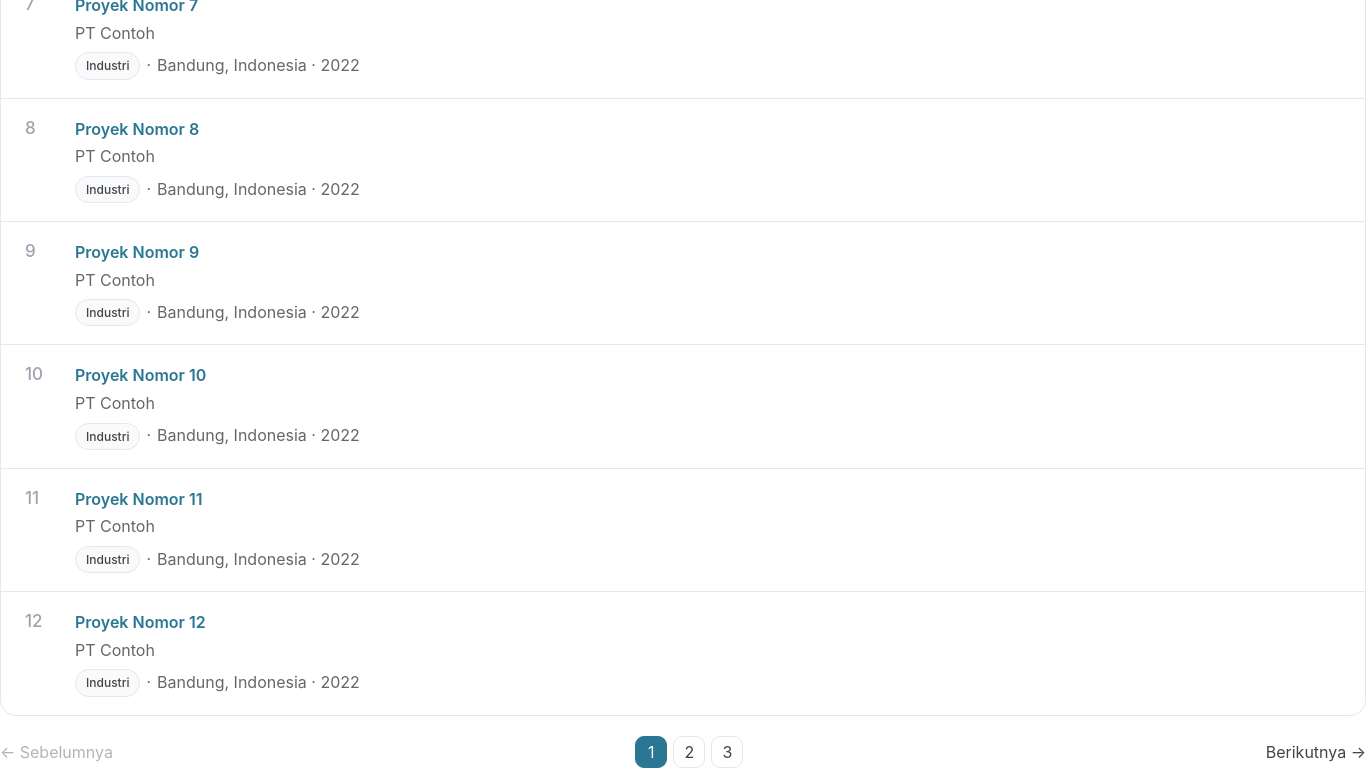
Test: ProjectDirectoryList — pagination › paginates at 12 per page and advances with "Berikutnya"
The image size is (1366, 768).
(page scrolled)
Expected: the text "Proyek Nomor 13" is not shown
Step 1. Click the button "Berikutnya →" → (1316, 752), box [1266,740,1365,764]
(page scrolled)
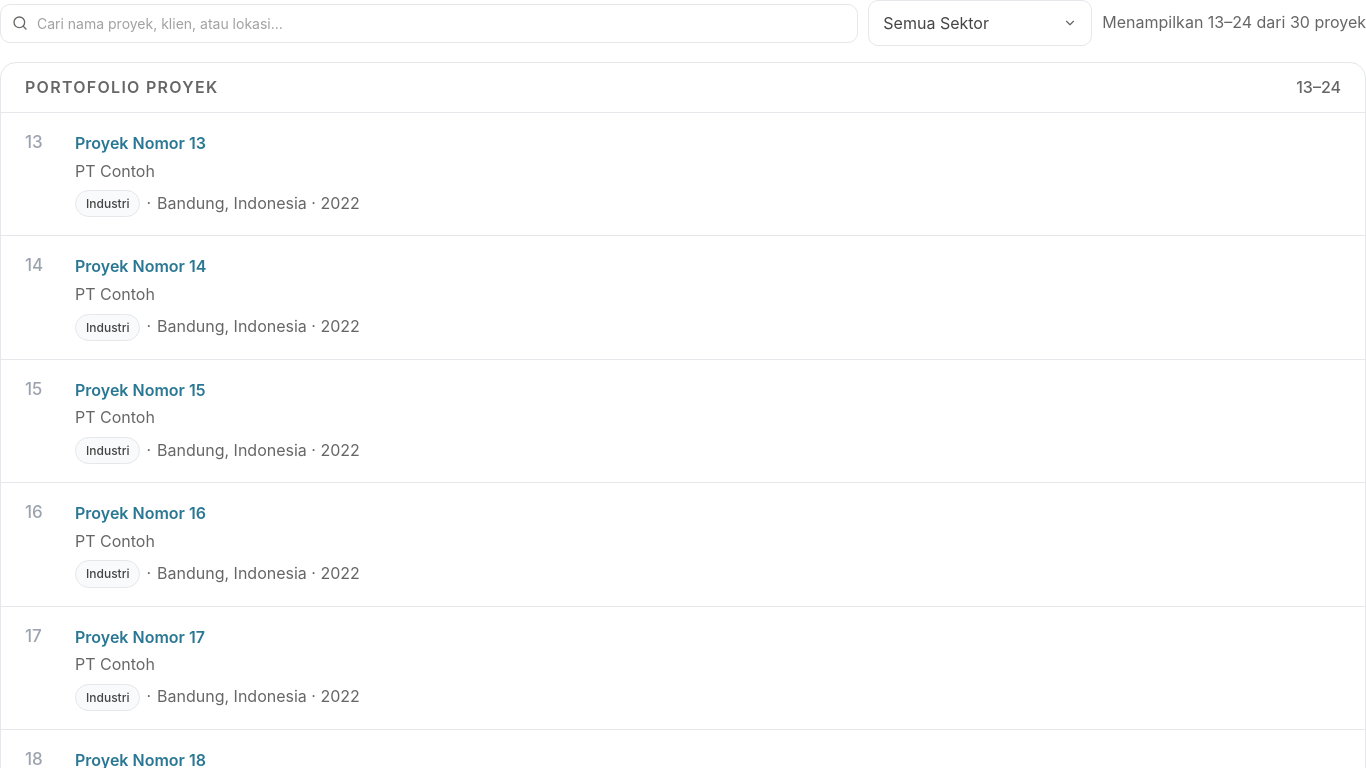
Expected: the text "Menampilkan 13–24 dari 30 proyek" is shown, [1102,10,1365,36]
Expected: the text "Proyek Nomor 13" is shown, [75,133,206,153]
